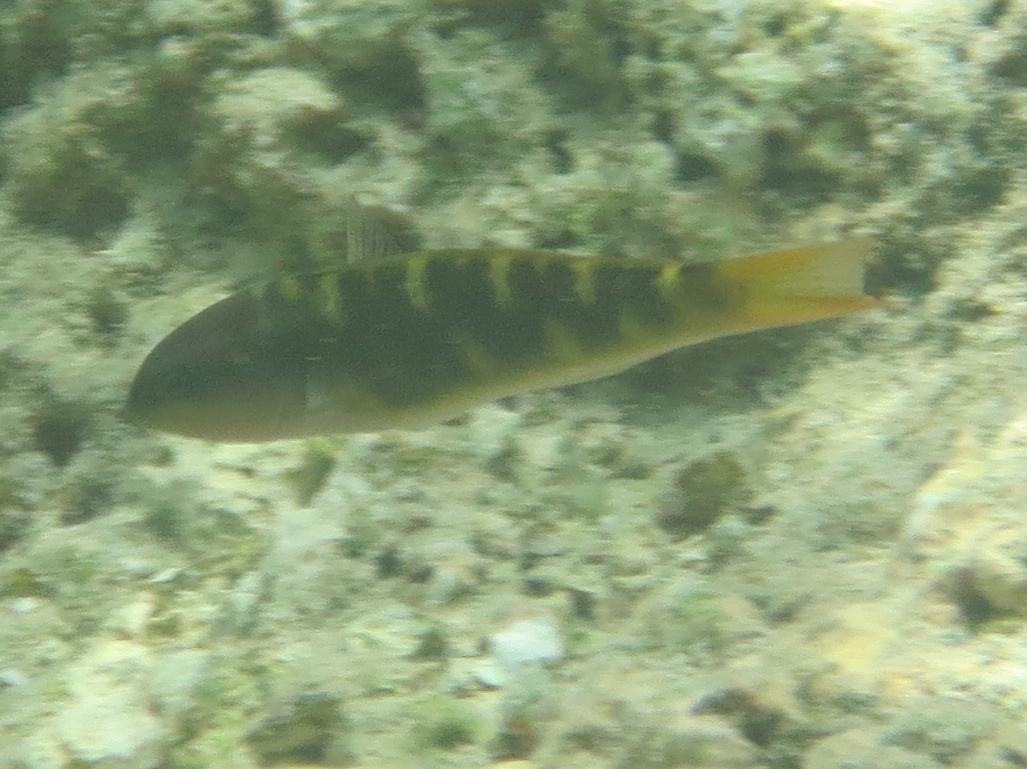Fish: (99, 154, 911, 566)
